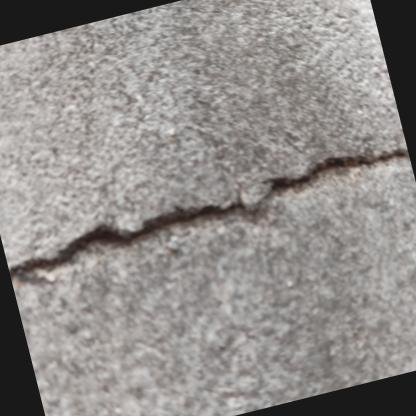crack: (9, 148, 410, 280)
